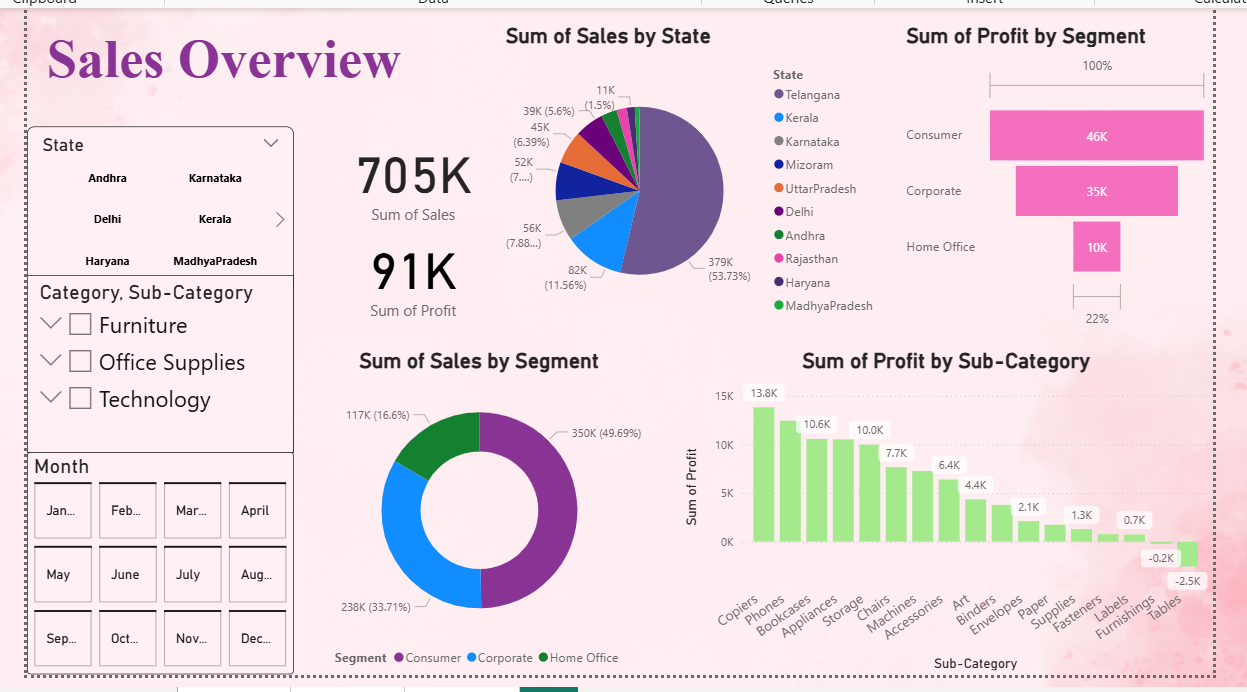

The dashboard page shown, as its layout file describes it:
{"tool":"powerbi","page":{"name":"Page 1","canvas":[1280,720],"ordinal":0},"visuals":[{"type":"lineStackedColumnComboChart","fields":{"Y":["Sum(Order Data.Profit)"],"Category":["Order Data.Sub-Category"]},"box":[704,368,576,352],"z":0},{"type":"donutChart","fields":{"Y":["Sum(Order Data.Sales)"],"Category":["Order Data.Segment"]},"box":[272,368,432,352],"z":1000},{"type":"slicer","fields":{"Values":["Order Data.State"]},"box":[0,128,288,176],"z":2000},{"type":"slicer","fields":{"Values":["Order Data.Category","Order Data.Sub-Category"]},"box":[0,288,288,192],"z":3000},{"type":"funnel","fields":{"Category":["Order Data.Segment"],"Y":["Sum(Order Data.Profit)"]},"box":[944,16,336,336],"z":4000},{"type":"card","fields":{"Values":["Sum(Order Data.Sales)"]},"box":[320,128,192,112],"z":5000},{"type":"card","fields":{"Values":["Sum(Order Data.Profit)"]},"box":[320,224,192,128],"z":6000},{"type":"pieChart","fields":{"Category":["Order Data.State"],"Y":["Sum(Order Data.Sales)"]},"box":[512,16,416,336],"z":7000},{"type":"advancedSlicerVisual","fields":{"Values":["Order Data.Order Date.Variation.Date Hierarchy.Month"]},"box":[0,480,288,240],"z":8000},{"type":"textbox","box":[16,16,416,80],"z":9000}]}

Visuals, with their boxes on the page's 1280x720 design canvas (x1, y1, x2, y2). These are canvas units, not pixel positions in the 1247x692 screenshot, which may show the page scaled, cropped or inside an application window:
lineStackedColumnComboChart - Sum(Order Data.Profit) x Order Data.Sub-Category: (704, 368, 1280, 720)
donutChart - Sum(Order Data.Sales) x Order Data.Segment: (272, 368, 704, 720)
slicer - Order Data.State: (0, 128, 288, 304)
slicer - Order Data.Category x Order Data.Sub-Category: (0, 288, 288, 480)
funnel - Order Data.Segment x Sum(Order Data.Profit): (944, 16, 1280, 352)
card - Sum(Order Data.Sales): (320, 128, 512, 240)
card - Sum(Order Data.Profit): (320, 224, 512, 352)
pieChart - Order Data.State x Sum(Order Data.Sales): (512, 16, 928, 352)
advancedSlicerVisual - Order Data.Order Date.Variation.Date Hierarchy.Month: (0, 480, 288, 720)
textbox: (16, 16, 432, 96)
